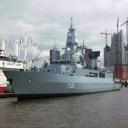Fragata: (3, 17, 123, 104)
